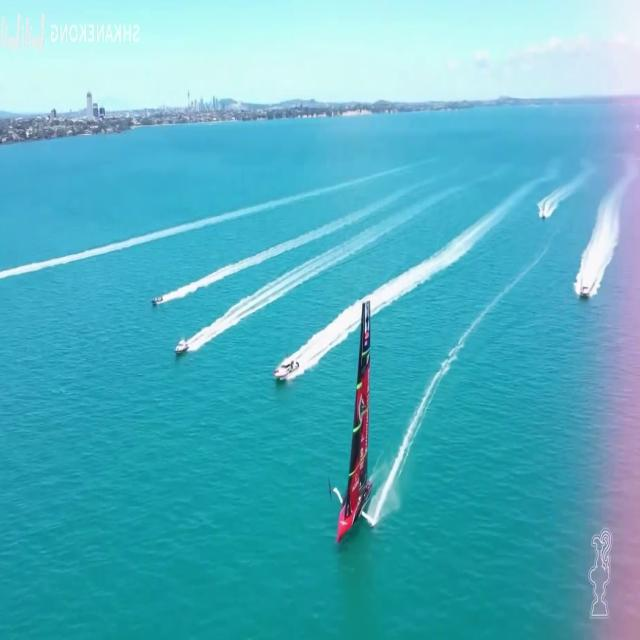houseboat: (272, 353, 298, 387), (580, 268, 592, 300), (171, 336, 190, 354), (149, 296, 163, 308), (540, 206, 547, 220)
sailboat: (329, 296, 379, 542)
